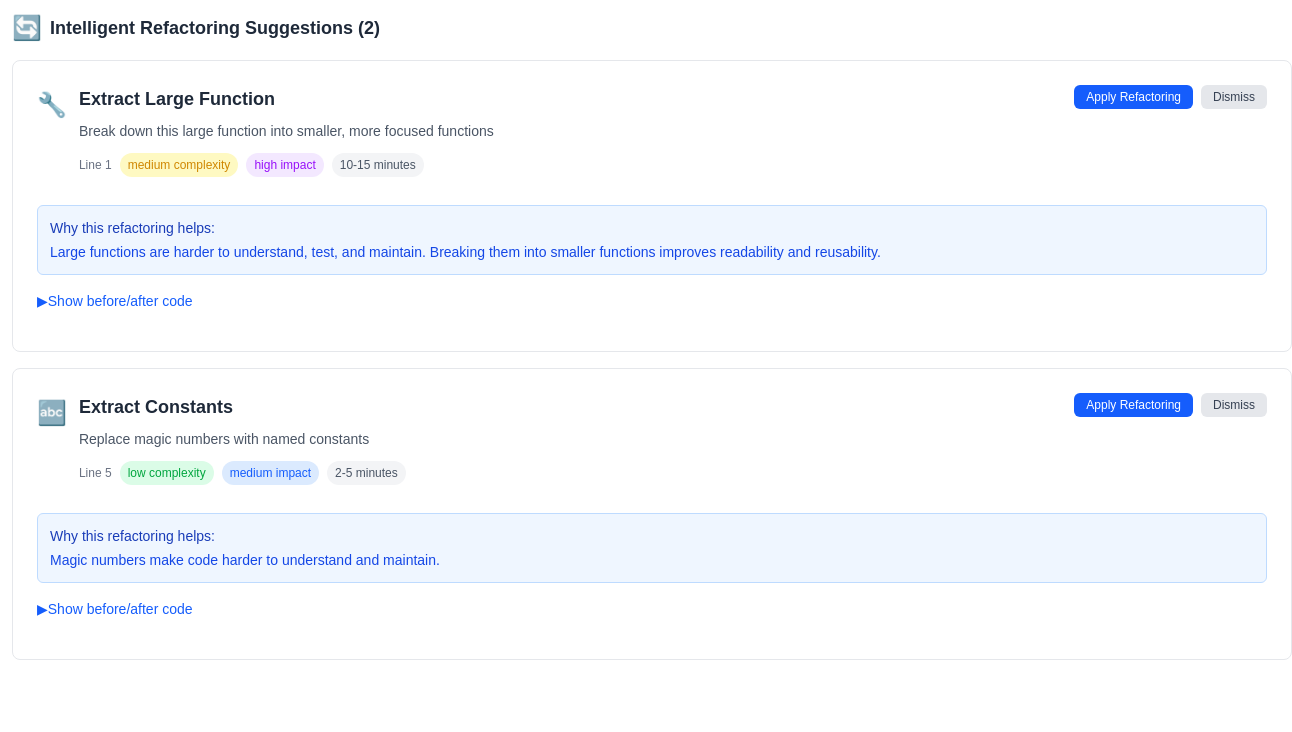
RefactoringSuggestions › hides dismissed suggestions
Click the button "Dismiss" in the row of "Extract Large Function" at (1234, 97), box top-left (1201, 85), bottom-right (1267, 109)
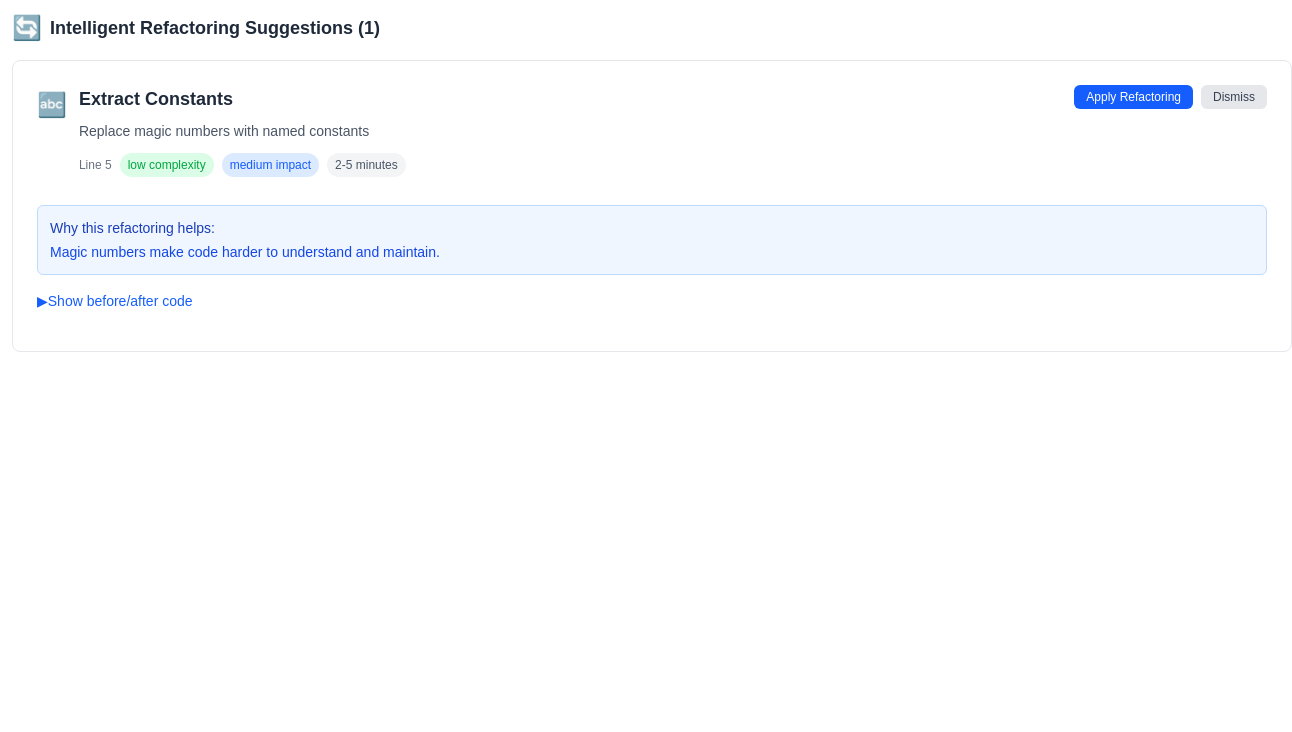
expect the heading "Extract Constants" is shown: met, box top-left (79, 89), bottom-right (233, 109)
expect the heading "Intelligent Refactoring Suggestions (1)" is shown: met, box top-left (12, 12), bottom-right (380, 44)
expect the heading "Extract Large Function" is gone: met
